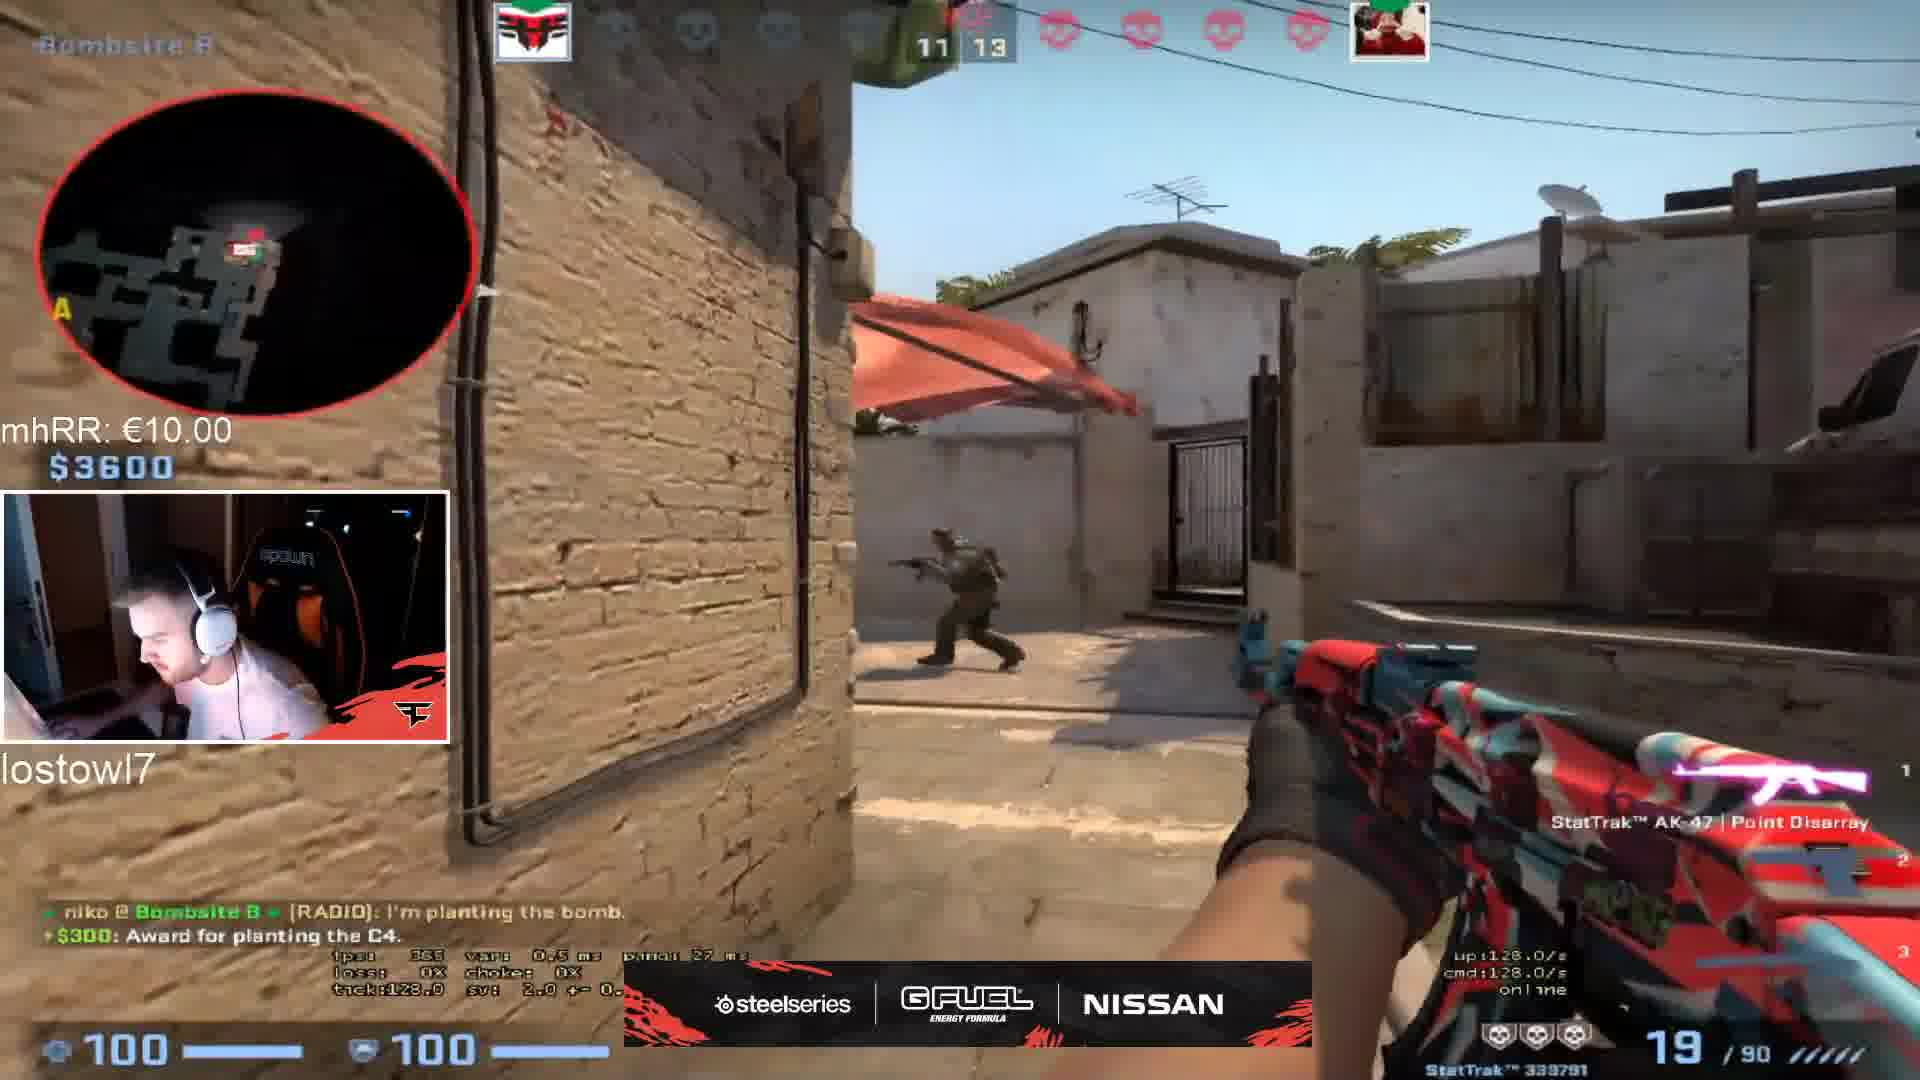enemy: (876, 516, 1038, 682)
